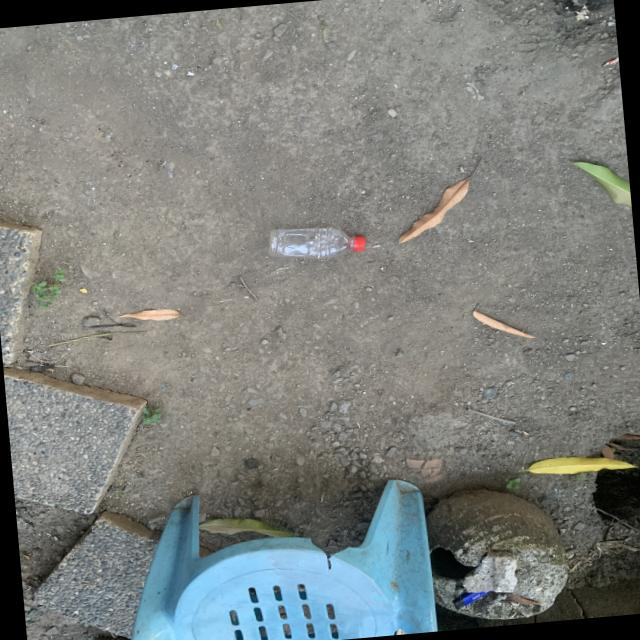Bottle: (269, 226, 365, 258)
